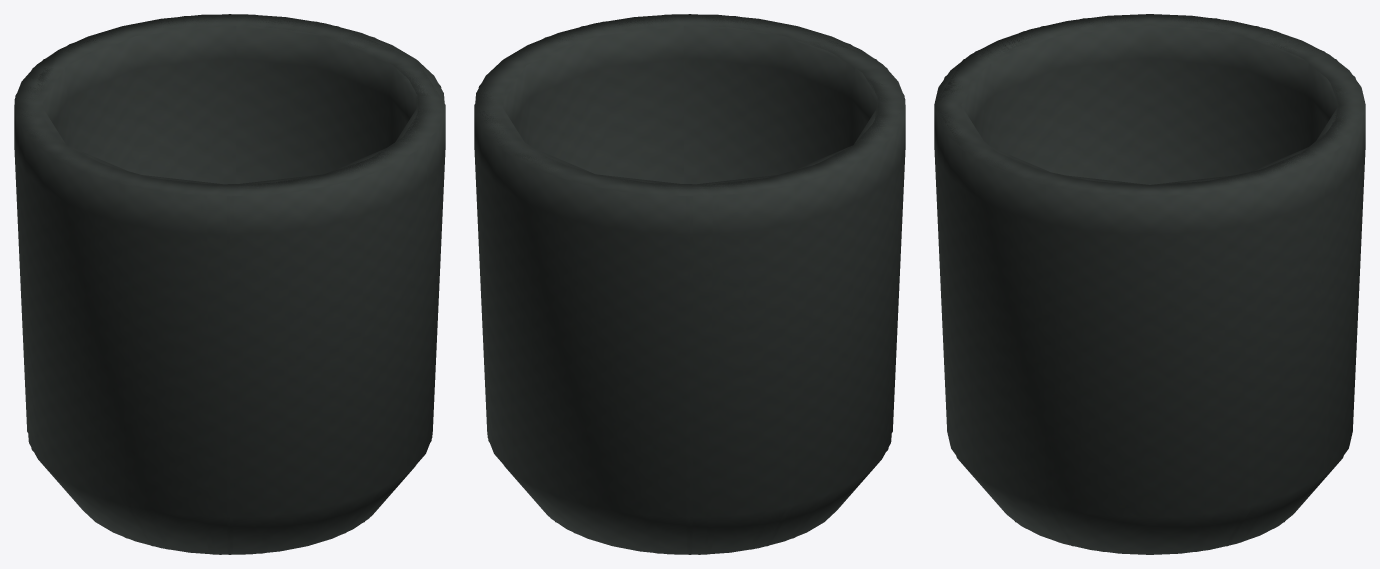
The model's file is MV_Planter_Round_Medium.fbx.
The picture shows the model from 3 angles, left to right: view 1: azimuth 30°, elevation 25°; view 2: azimuth 150°, elevation 25°; view 3: azimuth 270°, elevation 25°; orthographic projection.
Parts seen in each view (by area): view 1: LOD0_Mesh, LOD2_Mesh, LOD1_Mesh; view 2: LOD0_Mesh, LOD2_Mesh, LOD1_Mesh; view 3: LOD0_Mesh, LOD2_Mesh, LOD1_Mesh.
Boxes of the visible parts, x1,y1,x2,y2 form: LOD0_Mesh: (14, 14, 445, 554); LOD2_Mesh: (14, 14, 445, 554); LOD1_Mesh: (15, 14, 444, 554); LOD0_Mesh: (474, 14, 905, 554); LOD2_Mesh: (474, 14, 905, 554); LOD1_Mesh: (475, 14, 904, 554); LOD0_Mesh: (934, 14, 1365, 554); LOD2_Mesh: (934, 14, 1365, 546); LOD1_Mesh: (935, 14, 1365, 551).
Size of the model in its own units: 0.56 by 0.55 by 0.56.
